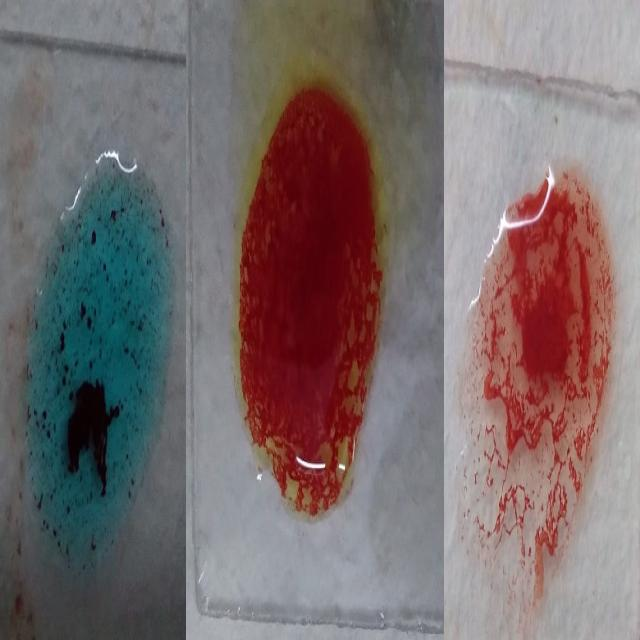A: (24, 152, 171, 571)
B: (235, 53, 387, 512)
D: (459, 188, 613, 569)
